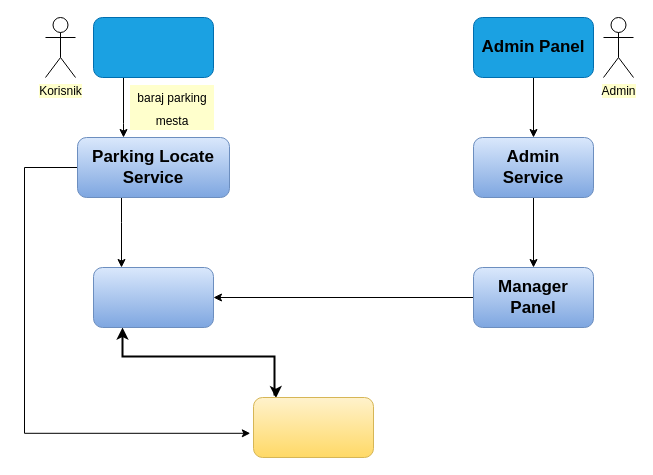
This 653x475 diagram has some shape labels left out. The box of each missing label's shape, as (x1, y1, x2, y2) in pixels:
Database: (252, 396, 374, 458)
User Management: (92, 266, 214, 328)
WebApp UI: (92, 16, 214, 78)
